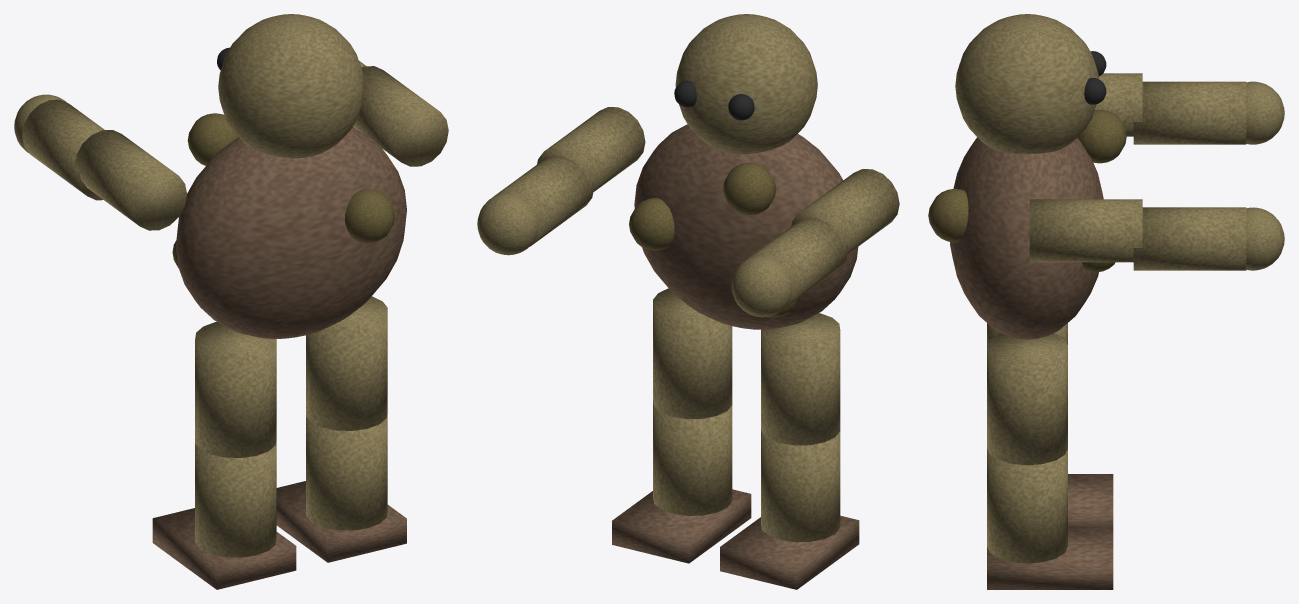
File: zombie.glb
3 views of the same model, side by side, from view 1: azimuth 30°, elevation 25°; view 2: azimuth 150°, elevation 25°; view 3: azimuth 270°, elevation 25° (orthographic). The views are drawn at different scales.
Parts seen in each view (by area): view 1: Torso, Head, ThighL, ThighR, ShinL, ShinR, UpperArmL, UpperArmR, FootL, FootR, ForearmL, RotPatch.002 (+2 smaller); view 2: Torso, Head, ThighL, ThighR, ShinL, ShinR, FootR, FootL, UpperArmR, UpperArmL, ForearmR, ForearmL (+5 smaller); view 3: Torso, Head, ThighR, ShinR, UpperArmR, ForearmR, ForearmL, FootR, FootL, HandL, HandR, UpperArmL (+3 smaller).
Boxes of the visible parts, x1,y1,x2,y2 form: Torso: [175, 127, 406, 338]; Head: [218, 14, 364, 158]; ThighL: [195, 322, 276, 457]; ThighR: [306, 296, 387, 430]; ShinL: [195, 440, 276, 557]; ShinR: [306, 413, 387, 530]; UpperArmL: [74, 130, 187, 230]; UpperArmR: [352, 66, 448, 166]; FootL: [152, 508, 296, 589]; FootR: [276, 481, 406, 562]; ForearmL: [22, 99, 104, 200]; RotPatch.002: [345, 189, 394, 243]; Torso: [634, 124, 858, 329]; Head: [675, 14, 817, 154]; ThighL: [761, 313, 840, 445]; ThighR: [653, 288, 732, 419]; ShinL: [761, 428, 840, 542]; ShinR: [653, 400, 732, 515]; FootR: [612, 489, 751, 563]; FootL: [720, 515, 859, 589]; UpperArmR: [537, 107, 645, 191]; UpperArmL: [791, 169, 899, 253]; ForearmR: [492, 155, 594, 246]; ForearmL: [747, 217, 848, 308]; Torso: [950, 137, 1103, 339]; Head: [955, 14, 1098, 153]; ThighR: [987, 333, 1067, 465]; ShinR: [987, 449, 1067, 563]; UpperArmR: [1029, 199, 1142, 262]; ForearmR: [1133, 207, 1246, 270]; ForearmL: [1133, 81, 1246, 144]; FootR: [987, 527, 1113, 589]; FootL: [1068, 474, 1113, 527]; HandL: [1246, 81, 1284, 144]; HandR: [1246, 207, 1284, 270]; UpperArmL: [1095, 73, 1142, 136].
Bounding box in the file's own units: 0.625 × 1 × 0.6172.
7 materials, 6 textured.
